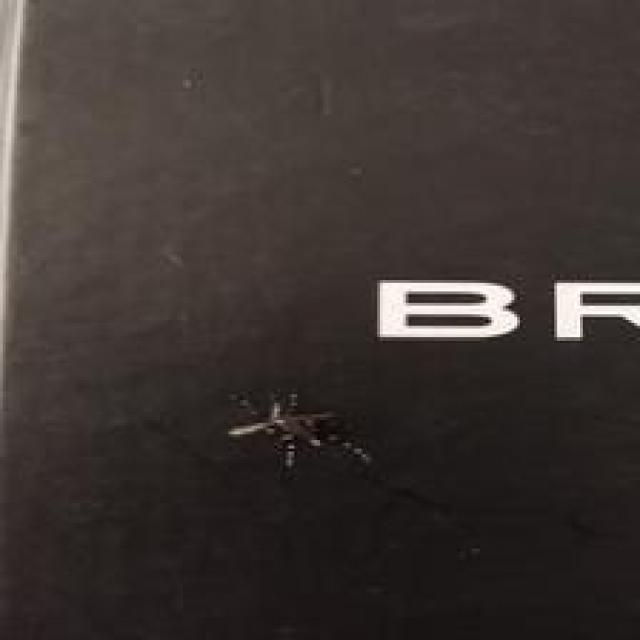Aedes albopictus: (224, 386, 373, 480)
